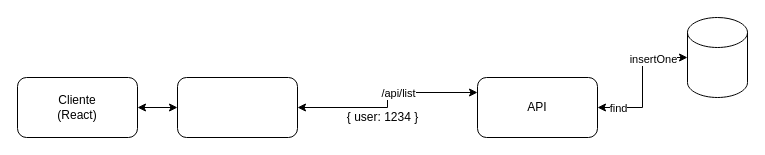
Some shapes in this 765 by 155 pixel diagram are drawn without their labels. The shapes that lost their labels are listed below. From the top down, each one's centre as x and y in pixels, then its label:
At (x=717, y=57): "Mongo".
At (x=237, y=107): "Axios".
